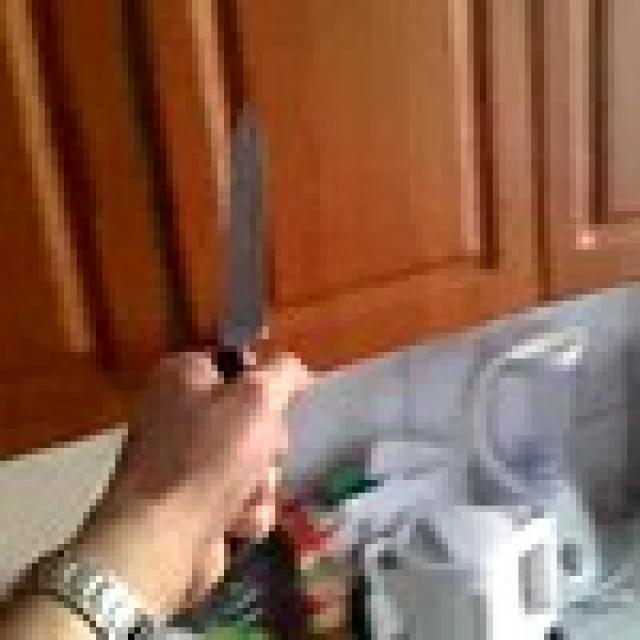Knife: (198, 96, 308, 403)
